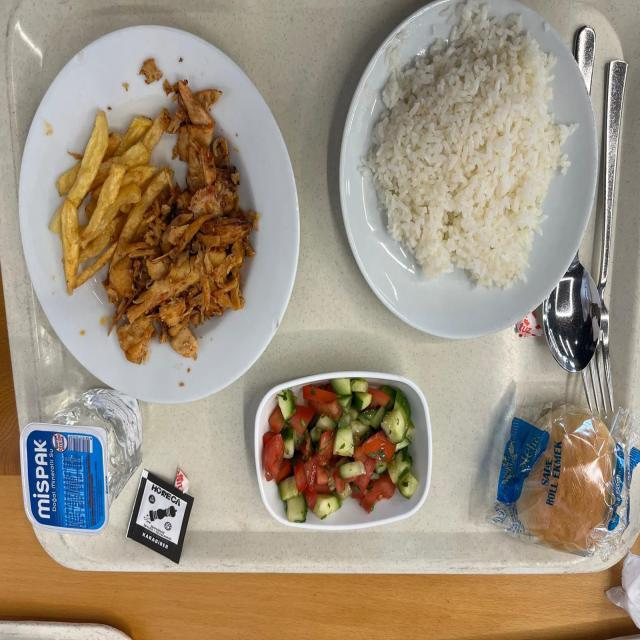ana_yemek: (16, 23, 301, 396), (339, 2, 586, 340)
corba: (260, 376, 420, 524)
